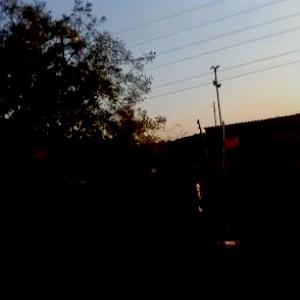follow: (159, 164, 252, 299)
